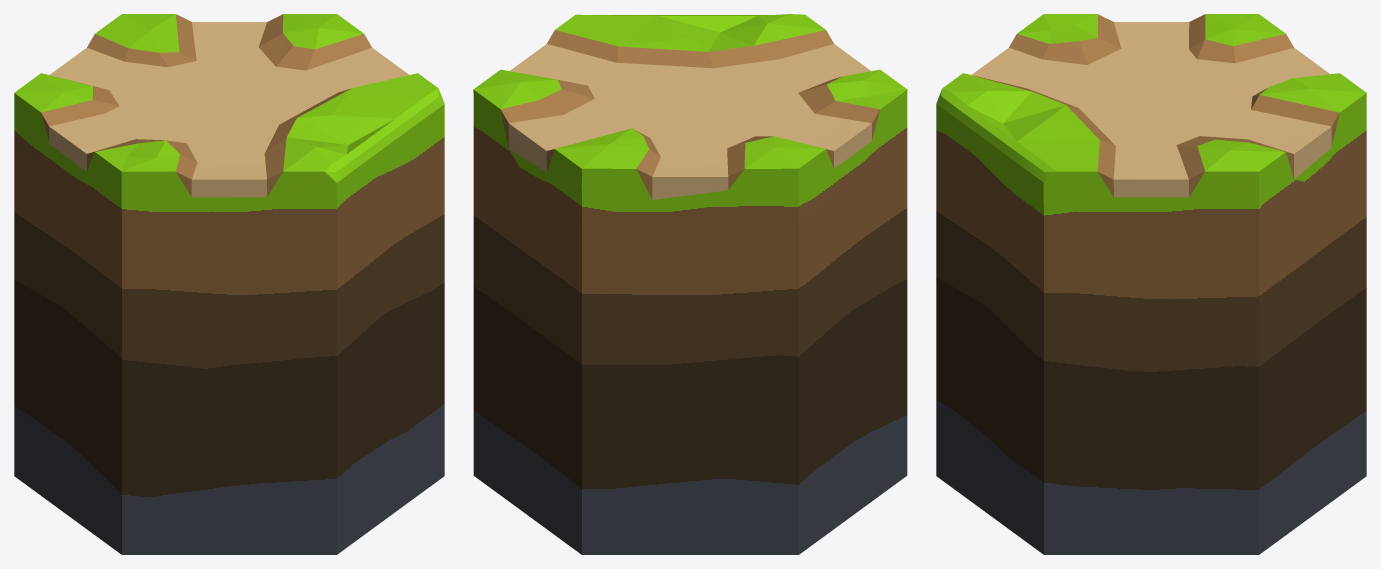
The model's file is HexTilePath_5Way_1.glb.
3 views of the same model, side by side, from view 1: azimuth 30°, elevation 25°; view 2: azimuth 150°, elevation 25°; view 3: azimuth 270°, elevation 25° (orthographic).
Visible parts, largest first — view 1: HexTilePath_5Way_1; view 2: HexTilePath_5Way_1; view 3: HexTilePath_5Way_1.
Part boxes in pixels (<box>): HexTilePath_5Way_1: <box>14,14,444,554</box>; HexTilePath_5Way_1: <box>473,14,907,554</box>; HexTilePath_5Way_1: <box>936,14,1366,554</box>.
Size of the model in its own units: 1.73 by 1.99 by 2.
Materials: 1 (1 with a texture image).
